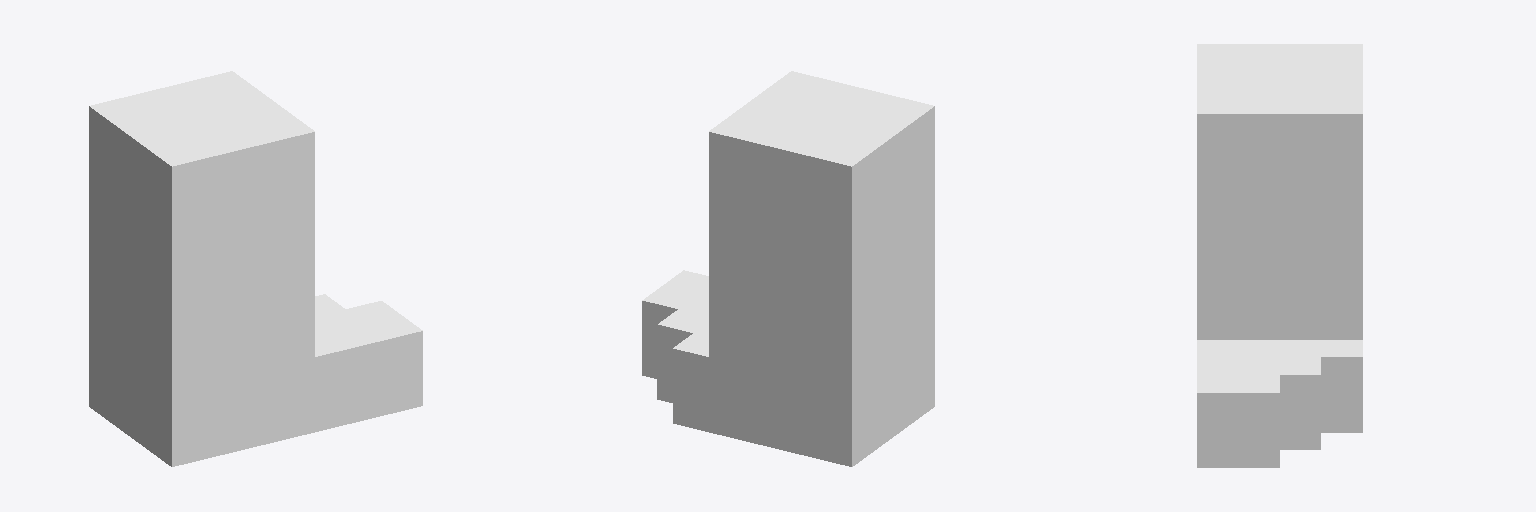
The model's file is Character1_LeftFoot.obj.
The picture shows the model from 3 angles: view 1: azimuth 30°, elevation 25°; view 2: azimuth 150°, elevation 25°; view 3: azimuth 270°, elevation 25°; orthographic projection.
Parts seen in each view (by area): view 1: object 1; view 2: object 1; view 3: object 1.
Boxes of the visible parts, x1=… form: object 1: x1=89, y1=71, x2=422, y2=466; object 1: x1=642, y1=71, x2=934, y2=466; object 1: x1=1197, y1=44, x2=1362, y2=467.
Size of the model in its own units: 0.7 by 0.8 by 0.4.